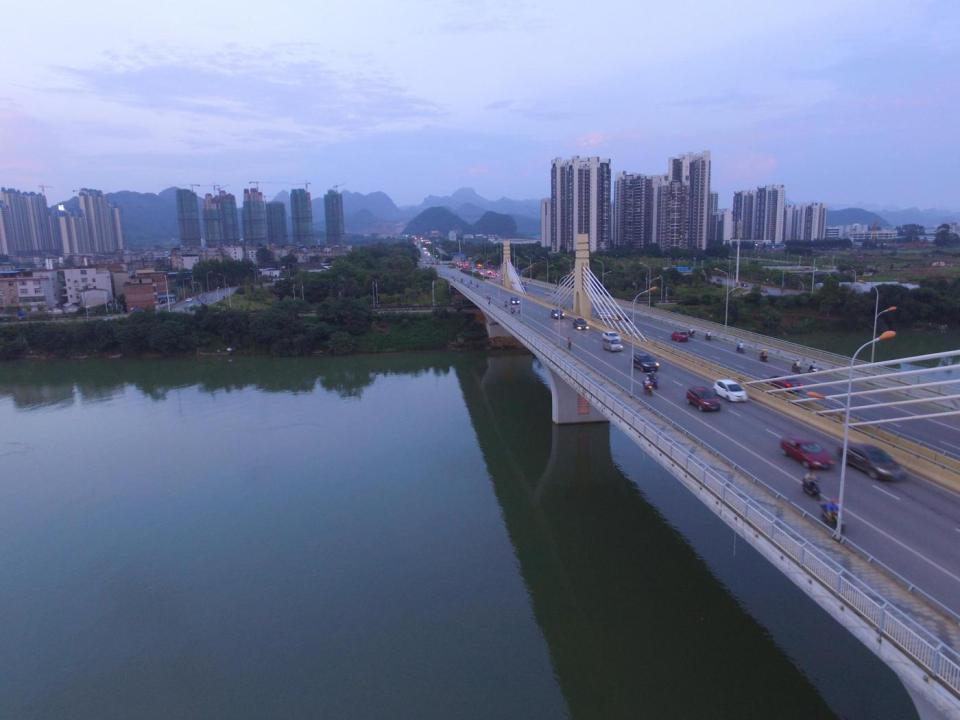bus: (476, 264, 483, 270)
car: (838, 442, 906, 482), (779, 434, 835, 471), (686, 386, 722, 412), (713, 379, 748, 403), (767, 375, 804, 392), (630, 352, 659, 372), (670, 329, 689, 342), (602, 331, 620, 343), (573, 317, 589, 330), (616, 312, 631, 322), (551, 308, 564, 319), (595, 312, 610, 320), (759, 287, 768, 293), (189, 303, 194, 310), (184, 298, 192, 302), (487, 269, 492, 275), (716, 278, 723, 282), (740, 282, 747, 286), (490, 274, 496, 278)
van: (602, 336, 624, 352), (510, 296, 520, 305), (521, 286, 527, 292)
